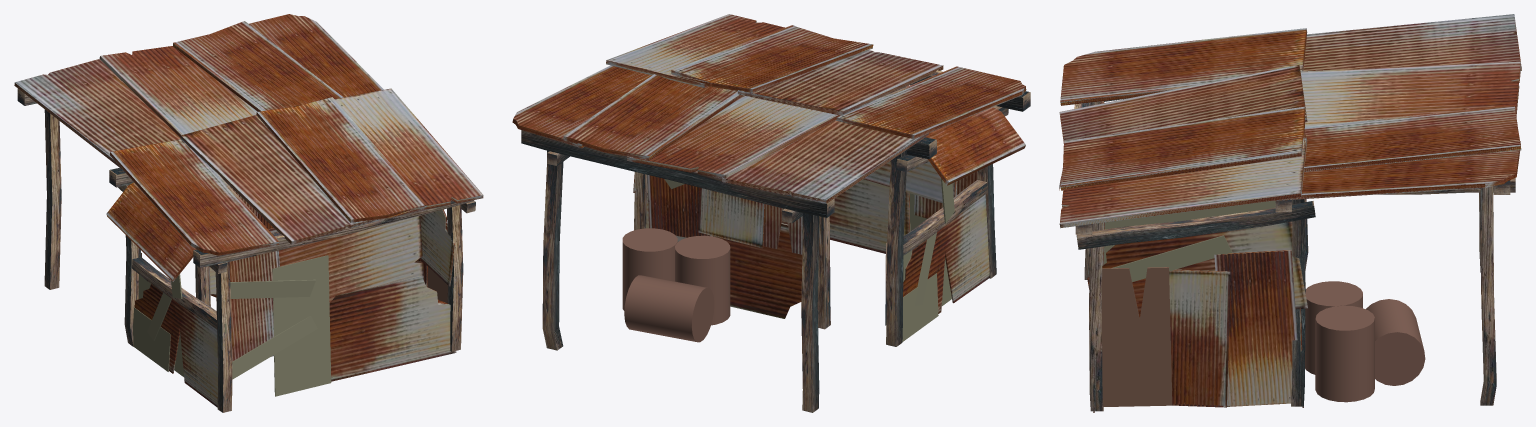
Rendered from river-shack.zfix-v1.lod0.glb.
3 renders of one model, left to right at view 1: azimuth 30°, elevation 25°; view 2: azimuth 150°, elevation 25°; view 3: azimuth 270°, elevation 25°, orthographic. The views are drawn at different scales.
Parts seen in each view (by area): view 1: pCube1_lambert2_0, pCube4_lambert4_0, pasted__pCube3_pasted__lambert3_0; view 2: pCube1_lambert2_0, pCube4_lambert4_0, pasted__pCube3_pasted__lambert3_0; view 3: pCube1_lambert2_0, pasted__pCube3_pasted__lambert3_0, pCube4_lambert4_0.
Part boxes in pixels (x1,y1,x2,y2): pCube1_lambert2_0: [14, 14, 483, 407]; pCube4_lambert4_0: [17, 88, 475, 412]; pasted__pCube3_pasted__lambert3_0: [133, 223, 447, 396]; pCube1_lambert2_0: [512, 14, 1026, 318]; pCube4_lambert4_0: [521, 17, 1030, 412]; pasted__pCube3_pasted__lambert3_0: [622, 178, 954, 342]; pCube1_lambert2_0: [1059, 14, 1521, 412]; pasted__pCube3_pasted__lambert3_0: [1102, 201, 1425, 406]; pCube4_lambert4_0: [1074, 98, 1515, 411].
Size of the model in its own units: 4.47 by 2.96 by 5.
Materials: 3 (2 with a texture image).
